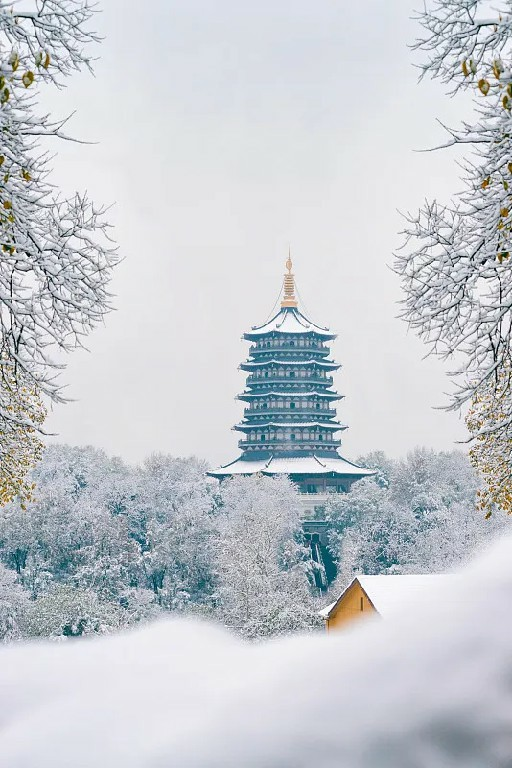Leifeng: (204, 244, 380, 496)
